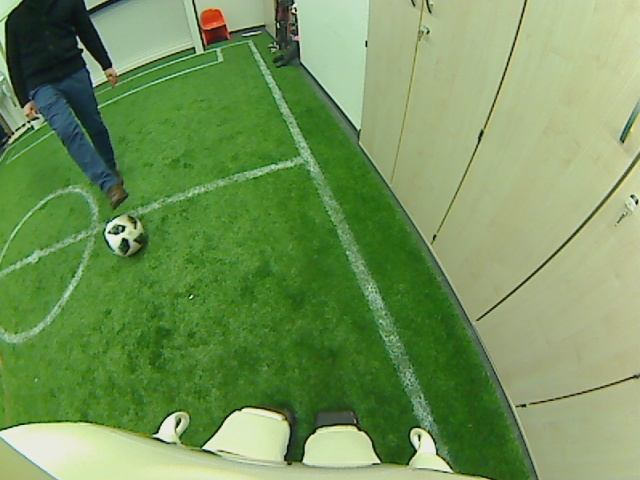ball: (101, 212, 146, 258)
